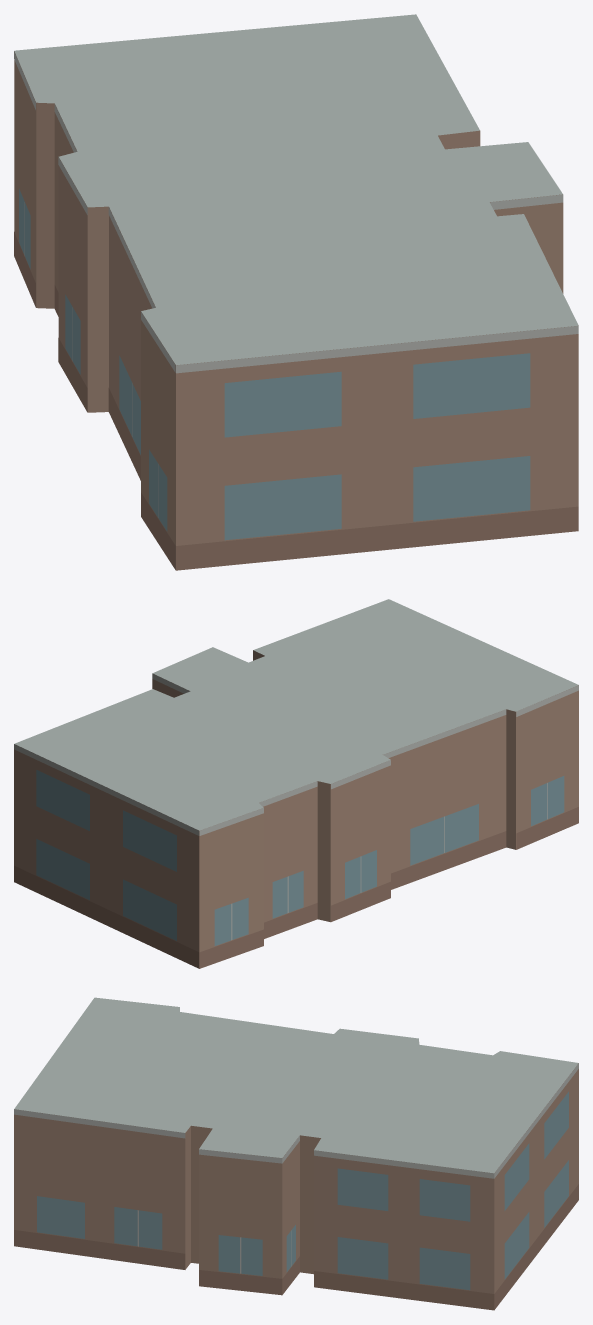
File: survey-upis-32973423.glb
3 renders of one model, top to bottom at view 1: azimuth 30°, elevation 25°; view 2: azimuth 150°, elevation 25°; view 3: azimuth 270°, elevation 25°, orthographic. The views are drawn at different scales.
Parts seen in each view (by area): view 1: survey-upis-32973423.tmp; view 2: survey-upis-32973423.tmp; view 3: survey-upis-32973423.tmp.
Part boxes in pixels (x1,y1,x2,y2): survey-upis-32973423.tmp: (14, 14, 578, 570); survey-upis-32973423.tmp: (14, 599, 578, 968); survey-upis-32973423.tmp: (14, 997, 578, 1310).
Bounding box in the file's own units: 16.79 × 6.1 × 22.79.
